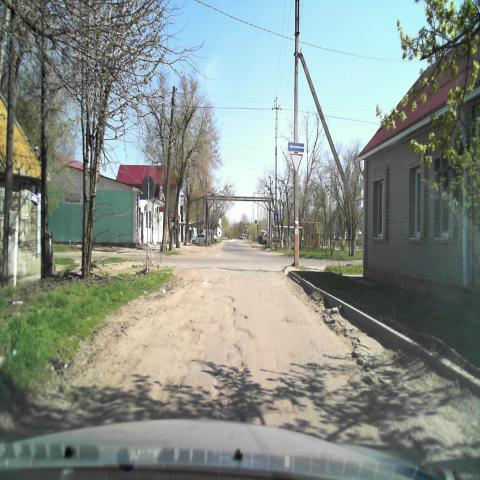5_7_2: (289, 141, 305, 152)
